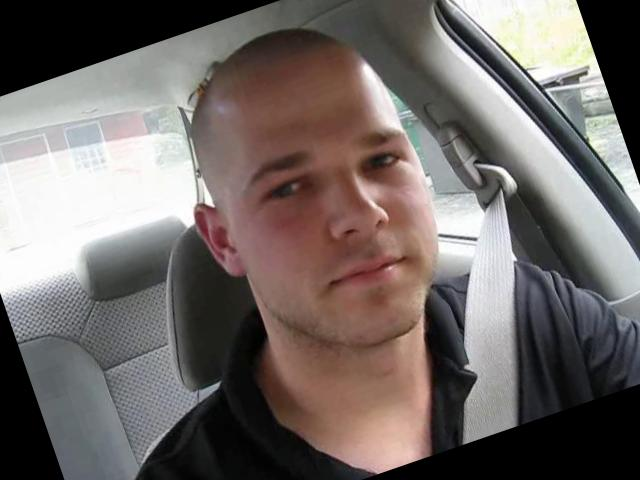eye_open: (251, 167, 322, 220), (351, 137, 414, 188)
face: (208, 100, 474, 378)
